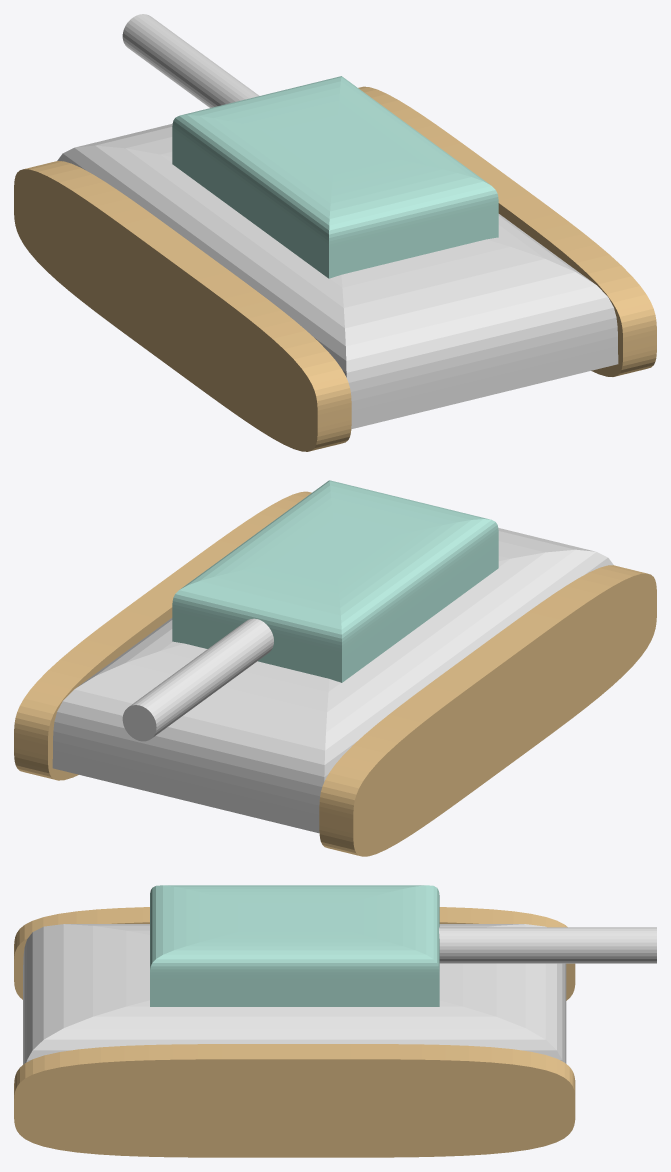
The model's file is tank.fbx.
The picture shows the model from 3 angles, top to bottom: view 1: azimuth 30°, elevation 25°; view 2: azimuth 150°, elevation 25°; view 3: azimuth 270°, elevation 25°; orthographic projection. The views are drawn at different scales.
Visible parts, largest first — view 1: bottom, leftCata, top, rightCata, Cylinder; view 2: bottom, leftCata, top, rightCata, Cylinder; view 3: rightCata, bottom, top, Cylinder, leftCata.
Part boxes in pixels (x1,y1,x2,y2): bottom: (57, 123, 618, 429); leftCata: (14, 161, 351, 451); top: (172, 76, 498, 278); rightCata: (358, 86, 656, 376); Cylinder: (122, 14, 259, 107); bottom: (52, 528, 613, 833); leftCata: (319, 565, 656, 856); top: (172, 480, 498, 682); rightCata: (14, 491, 311, 780); Cylinder: (122, 618, 273, 741); rightCata: (14, 1044, 575, 1157); bottom: (23, 924, 566, 1064); top: (150, 885, 439, 1006); Cylinder: (439, 927, 656, 963); leftCata: (14, 907, 575, 1000).
Size of the model in its own units: 200 by 100 by 355.
